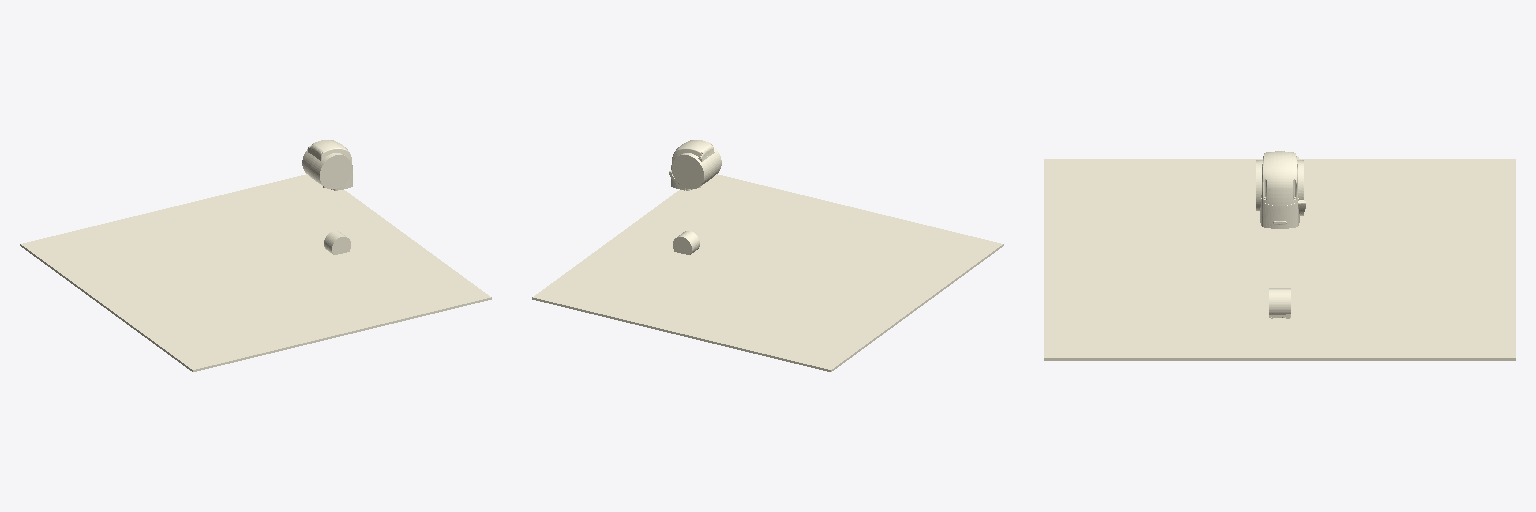
The robot description file, URDF, robot "rv7fr":
<?xml version="1.0" encoding="utf-8"?>
<!-- =================================================================================== -->
<!-- |    This document was autogenerated by xacro from rv7fr-dh-floor-gazebo.urdf.xacro | -->
<!-- |    EDITING THIS FILE BY HAND IS NOT RECOMMENDED                                 | -->
<!-- =================================================================================== -->
<!--[ ] Add Gazebo plugin for ros control-->
<!--[ ] Add sensor model plugin -->
<!--[ ] Check the correct limits efforts
     [119.36611817, 107.16168698,  50.92959239,  17.00171377, 12.7323981 ,   3.97887346] -->
<!--[DONE] Check if the transmission matched the joint number -->
<robot name="rv7fr">
  <material name="white">
    <color rgba="1.0 0.980392156863 0.898039215686 1."/>
  </material>
  <material name="silver">
    <color rgba="0.61568627451 0.839215686275 0.941176470588 1."/>
  </material>
  <link name="world"/>
  <link name="floor">
    <visual>
      <geometry>
        <mesh filename="package://melfa_description/mesh/rv7fr/floor.stl" scale="0.001 0.001 0.001"/>
      </geometry>
      <origin rpy="0 0 0" xyz="0 0 0"/>
      <material name="white"/>
    </visual>
    <collision>
      <origin rpy="0 0 0" xyz="0 0 0"/>
      <geometry>
        <mesh filename="package://melfa_description/mesh/rv7fr/floor.stl" scale="0.001 0.001 0.001"/>
      </geometry>
    </collision>
    <inertial>
      <!--origin
        xyz="-0.11257 -4.1589E-05 0.057533"
        rpy="0 0 0" /-->
      <!-- I am using the density of Alumide (1.36g/cm^3) for this -->
      <!-- The volume of the mesh is 13038.131 cm^3 -->
      <mass value="17.73185816"/>
      <inertia ixx="103.908878848" ixy="6.363055616" ixz="-6.148561408" iyy="139.111661568" iyz="2.115191296" izz="132.604526592"/>
    </inertial>
    <!--inertial-->
  </link>
  <joint name="flooring" type="fixed">
    <parent link="world"/>
    <child link="floor"/>
  </joint>
  <link name="base">
    <visual>
      <geometry>
        <mesh filename="package://melfa_description/mesh/rv7fr/dh_base.stl" scale="0.001 0.001 0.001"/>
      </geometry>
      <origin rpy="0 0 0" xyz="0 0 0"/>
      <material name="white"/>
    </visual>
    <collision>
      <origin rpy="0 0 0" xyz="0 0 0"/>
      <geometry>
        <mesh filename="package://melfa_description/mesh/rv7fr/dh_base.stl" scale="0.001 0.001 0.001"/>
      </geometry>
    </collision>
    <inertial>
      <!--origin
        xyz="-0.11257 -4.1589E-05 0.057533"
        rpy="0 0 0" /-->
      <!-- I am using the density of Alumide (1.36g/cm^3) for this -->
      <!-- The volume of the mesh is 13038.131 cm^3 -->
      <mass value="17.73185816"/>
      <inertia ixx="103.908878848" ixy="6.363055616" ixz="-6.148561408" iyy="139.111661568" iyz="2.115191296" izz="132.604526592"/>
    </inertial>
    <!--inertial-->
  </link>
  <!--Fixed joint-->
  <joint name="joint_w" type="fixed">
    <parent link="floor"/>
    <child link="base"/>
    <origin rpy="0 0 0" xyz="0 0 0.01"/>
  </joint>
  <link name="link1">
    <visual>
      <origin rpy="0 0 0" xyz="0 0 0"/>
      <geometry>
        <mesh filename="package://melfa_description/mesh/rv7fr/dh_link1.stl" scale="0.001 0.001 0.001"/>
      </geometry>
      <material name="white"/>
    </visual>
    <inertial>
      <!--origin
        xyz="-0.11257 -4.1589E-05 0.057533"
        rpy="0 0 0" /-->
      <!-- I am using the density of Alumide (1.36g/cm^3) for this -->
      <!-- The volume of the mesh is 6013.742500000 cm^3 -->
      <mass value="8.1786898"/>
      <inertia ixx="90.376159232" ixy="0.016287799" ixz="-1.10389888" iyy="52.040425472" iyz="0.255685056" izz="66.680070144"/>
    </inertial>
    <!--inertial-->
    <collision>
      <origin rpy="0 0 0" xyz="0 0 0"/>
      <geometry>
        <mesh filename="package://melfa_description/mesh/rv7fr/dh_link1.stl" scale="0.001 0.001 0.001"/>
      </geometry>
    </collision>
  </link>
  <joint name="joint1" type="revolute">
    <parent link="base"/>
    <child link="link1"/>
    <origin rpy="0.0 0.0 0.0" xyz="0 0 0.225"/>
    <axis xyz="0 0 1"/>
    <!--Effort in this context is in N.m (revolute joint)-->
    <limit effort="119.36611817" lower="-4.18879020533" upper="4.18879020533" velocity="6.283185308"/>
    <dynamics damping="0" friction="0"/>
  </joint>
  <transmission name="trans1">
    <type>transmission_interface/SimpleTransmission</type>
    <joint name="joint1">
      <hardwareInterface>hardware_interface/EffortJointInterface</hardwareInterface>
    </joint>
    <actuator name="motor1">
      <hardwareInterface>hardware_interface/EffortJointInterface</hardwareInterface>
      <mechanicalReduction>1</mechanicalReduction>
    </actuator>
  </transmission>
  <link name="link2">
    <visual>
      <origin rpy="0 0 0" xyz="0 0 0"/>
      <geometry>
        <mesh filename="package://melfa_description/mesh/rv7fr/dh_link2.stl" scale="0.001 0.001 0.001"/>
      </geometry>
      <material name="white"/>
    </visual>
    <inertial>
      <!--origin
        xyz="-0.11257 -4.1589E-05 0.057533"
        rpy="0 0 0" /-->
      <!-- I am using the density of Alumide (1.36g/cm^3) for this -->
      <!-- The volume of the mesh is 9326.481 cm^3 -->
      <mass value="12.68401416"/>
      <inertia ixx="51.839111168" ixy="3.830765824" ixz="-1.103037056" iyy="192.674725888" iyz="0.112871744" izz="176.385097728"/>
    </inertial>
    <!--inertial-->
    <collision>
      <origin rpy="0 0 0" xyz="0 0 0"/>
      <geometry>
        <mesh filename="package://melfa_description/mesh/rv7fr/dh_link2.stl" scale="0.001 0.001 0.001"/>
      </geometry>
    </collision>
  </link>
  <joint name="joint2" type="revolute">
    <parent link="link1"/>
    <child link="link2"/>
    <origin rpy="-1.570796327 0.0 0.0" xyz="0. 0. 0.175"/>
    <axis xyz="0 0 1"/>
    <!--Effort in this context is in N.m (revolute joint)-->
    <limit effort="107.16168698" lower="-3.43829862688" upper="0.610865238278" velocity="6.99877030141"/>
    <dynamics damping="0" friction="0"/>
  </joint>
  <transmission name="trans2">
    <type>transmission_interface/SimpleTransmission</type>
    <joint name="joint2">
      <hardwareInterface>hardware_interface/EffortJointInterface</hardwareInterface>
    </joint>
    <actuator name="motor2">
      <hardwareInterface>hardware_interface/EffortJointInterface</hardwareInterface>
      <mechanicalReduction>1</mechanicalReduction>
    </actuator>
  </transmission>
  <link name="link3">
    <visual>
      <origin rpy="0 0 0" xyz="0 0 0"/>
      <geometry>
        <mesh filename="package://melfa_description/mesh/rv7fr/dh_link3.stl" scale="0.001 0.001 0.001"/>
      </geometry>
      <material name="white"/>
    </visual>
    <inertial>
      <!--origin
        xyz="-0.11257 -4.1589E-05 0.057533"
        rpy="0 0 0" /-->
      <!-- I am using the density of Alumide (1.36g/cm^3) for this -->
      <!-- The volume of the mesh is 3836.328250000 cm^3 -->
      <mass value="5.21740642"/>
      <inertia ixx="15.117059072" ixy="-1.406446848" ixz="-0.060891936" iyy="13.858434048" iyz="-0.067995424" izz="17.11241216"/>
    </inertial>
    <!--inertial-->
    <collision>
      <origin rpy="0 0 0" xyz="0 0 0"/>
      <geometry>
        <mesh filename="package://melfa_description/mesh/rv7fr/dh_link3.stl" scale="0.001 0.001 0.001"/>
      </geometry>
    </collision>
  </link>
  <joint name="joint3" type="revolute">
    <parent link="link2"/>
    <child link="link3"/>
    <origin rpy="0 0 0" xyz="0.34 0 0"/>
    <axis xyz="0 0 1"/>
    <!--Effort in this context is in N.m (revolute joint)-->
    <limit effort="50.92959239" lower="-1.570796327" upper="1.15191730647" velocity="7.853981635"/>
    <dynamics damping="0" friction="0"/>
  </joint>
  <transmission name="trans3">
    <type>transmission_interface/SimpleTransmission</type>
    <joint name="joint3">
      <hardwareInterface>hardware_interface/EffortJointInterface</hardwareInterface>
    </joint>
    <actuator name="motor3">
      <hardwareInterface>hardware_interface/EffortJointInterface</hardwareInterface>
      <mechanicalReduction>1</mechanicalReduction>
    </actuator>
  </transmission>
  <link name="link4">
    <visual>
      <origin rpy="0 0 0" xyz="0 0 0.095"/>
      <geometry>
        <mesh filename="package://melfa_description/mesh/rv7fr/dh_link4.stl" scale="0.001 0.001 0.001"/>
      </geometry>
      <material name="white"/>
    </visual>
    <inertial>
      <!--origin
        xyz="-0.11257 -4.1589E-05 0.057533"
        rpy="0 0 0" /-->
      <!-- I am using the density of Alumide (1.36g/cm^3) for this -->
      <!-- The volume of the mesh is 2815.481250000  cm^3 -->
      <mass value="3.8290545"/>
      <inertia ixx="20.911454208" ixy="0.000388218125" ixz="-0.136878256" iyy="19.643154432" iyz="0.053645312" izz="5.443939328"/>
    </inertial>
    <!--inertial-->
    <collision>
      <origin rpy="0 0 0" xyz="0 0 0.095"/>
      <geometry>
        <mesh filename="package://melfa_description/mesh/rv7fr/dh_link4.stl" scale="0.001 0.001 0.001"/>
      </geometry>
    </collision>
  </link>
  <joint name="joint4" type="revolute">
    <parent link="link3"/>
    <child link="link4"/>
    <origin rpy="-1.570796327 0 0" xyz="0.05 0 0"/>
    <axis xyz="0 0 1"/>
    <!--Effort in this context is in N.m (revolute joint)-->
    <limit effort="16.2" lower="-3.49065850444" upper="3.49065850444" velocity="5.88175957999"/>
    <dynamics damping="0" friction="0"/>
  </joint>
  <transmission name="trans4">
    <type>transmission_interface/SimpleTransmission</type>
    <joint name="joint4">
      <hardwareInterface>hardware_interface/EffortJointInterface</hardwareInterface>
    </joint>
    <actuator name="motor4">
      <hardwareInterface>hardware_interface/EffortJointInterface</hardwareInterface>
      <mechanicalReduction>1</mechanicalReduction>
    </actuator>
  </transmission>
  <link name="link5">
    <visual>
      <origin rpy="0 0 0" xyz="0 0 0"/>
      <geometry>
        <mesh filename="package://melfa_description/mesh/rv7fr/dh_link5.stl" scale="0.001 0.001 0.001"/>
      </geometry>
      <material name="white"/>
    </visual>
    <inertial>
      <!--origin
        xyz="-0.11257 -4.1589E-05 0.057533"
        rpy="0 0 0" /-->
      <!-- I am using the density of Alumide (1.36g/cm^3) for this -->
      <!-- The volume of the mesh is 586.139875000 cm^3 -->
      <mass value="0.79715023"/>
      <inertia ixx="0.809056896" ixy="-0.015322087" ixz="-0.0005321248125" iyy="0.50428528" iyz="-0.000197501046875" izz="0.90484512"/>
    </inertial>
    <!--inertial-->
    <collision>
      <origin rpy="0 0 0" xyz="0 0 0"/>
      <geometry>
        <mesh filename="package://melfa_description/mesh/rv7fr/dh_link5.stl" scale="0.001 0.001 0.001"/>
      </geometry>
    </collision>
  </link>
  <joint name="joint5" type="revolute">
    <parent link="link4"/>
    <child link="link5"/>
    <origin rpy="1.570796327 0 0" xyz="0 0 0.3695"/>
    <axis xyz="0 0 1"/>
    <!--Effort in this context is in N.m (revolute joint)-->
    <limit effort="16.2" lower="-2.09439510267" upper="2.09439510267" velocity="7.853981635"/>
    <dynamics damping="0" friction="0"/>
  </joint>
  <transmission name="trans5">
    <type>transmission_interface/SimpleTransmission</type>
    <joint name="joint5">
      <hardwareInterface>hardware_interface/EffortJointInterface</hardwareInterface>
    </joint>
    <actuator name="motor5">
      <hardwareInterface>hardware_interface/EffortJointInterface</hardwareInterface>
      <mechanicalReduction>1</mechanicalReduction>
    </actuator>
  </transmission>
  <link name="link6">
    <visual>
      <origin rpy="0 0 0" xyz="0 0 0.085"/>
      <geometry>
        <mesh filename="package://melfa_description/mesh/rv7fr/dh_link6.stl" scale="0.001 0.001 0.001"/>
      </geometry>
      <material name="white"/>
    </visual>
    <inertial>
      <!--origin
        xyz="-0.11257 -4.1589E-05 0.057533"
        rpy="0 0 0" /-->
      <!-- I am using the density of Alumide (1.36g/cm^3) for this -->
      <!-- The volume of the mesh is  18.648947266 cm^3 -->
      <mass value="0.0253625682818"/>
      <inertia ixx="0.002339714" ixy="2.550886e-09" ixz="1.4813418945e-05" iyy="0.00230009425" iyz="6.07867e-09" izz="0.00342455025"/>
    </inertial>
    <!--inertial-->
    <collision>
      <origin rpy="0 0 0" xyz="0 0 0.085"/>
      <geometry>
        <mesh filename="package://melfa_description/mesh/rv7fr/dh_link6.stl" scale="0.001 0.001 0.001"/>
      </geometry>
    </collision>
  </link>
  <joint name="joint6" type="revolute">
    <parent link="link5"/>
    <child link="link6"/>
    <origin rpy="-1.570796327 0 0" xyz="0 0 0"/>
    <axis xyz="0 0 1"/>
    <!--Effort in this context is in N.m (revolute joint)-->
    <limit effort="6.86" lower="-6.283185308" upper="6.283185308" velocity="12.566370616"/>
    <dynamics damping="0" friction="0"/>
  </joint>
  <transmission name="trans6">
    <type>transmission_interface/SimpleTransmission</type>
    <joint name="joint6">
      <hardwareInterface>hardware_interface/EffortJointInterface</hardwareInterface>
    </joint>
    <actuator name="motor6">
      <hardwareInterface>hardware_interface/EffortJointInterface</hardwareInterface>
      <mechanicalReduction>1</mechanicalReduction>
    </actuator>
  </transmission>
  <!-- Dummy/Buffer joint for inverse kinematics -->
  <link name="link_effector"/>
  <joint name="joint_effector" type="fixed">
    <parent link="link6"/>
    <child link="link_effector"/>
    <origin rpy="0 0 0" xyz="0 0 0.085"/>
    <axis xyz="0 0 0"/>
  </joint>
  <gazebo>
    <plugin filename="libgazebo_ros_control.so" name="gazebo_ros_control">
      <robotNamespace>/rv7fr</robotNamespace>
      <!--robotSimType>gazebo_ros_control/DefaultRobotHWSim</robotSimType-->
    </plugin>
  </gazebo>
</robot>

--- Render facts (derived) ---
The picture shows the robot from 3 angles, left to right: view 1: azimuth 30°, elevation 25°; view 2: azimuth 150°, elevation 25°; view 3: azimuth 270°, elevation 25°; orthographic projection.
Model rv7fr with 10 links and 9 joints (6 revolute, 3 fixed), rooted at world, posed every joint at zero.
Links seen in each view (by area): view 1: floor, link3; view 2: floor, link3; view 3: floor, link3, link5.
Link boxes in pixels (x1,y1,x2,y2): floor: (20, 174, 491, 371); link3: (302, 140, 352, 190); floor: (532, 174, 1003, 371); link3: (669, 140, 721, 190); floor: (1044, 159, 1515, 360); link3: (1256, 151, 1305, 228); link5: (1269, 288, 1290, 318).
Bounding box of the posed robot: 1.43 × 1.43 × 0.5562 m (x, y, z).
Meshes: 8 distinct files referenced, 4 mesh visuals loaded (4 binary STL); not drawn: 4 (reference not matched to a file when rendering).